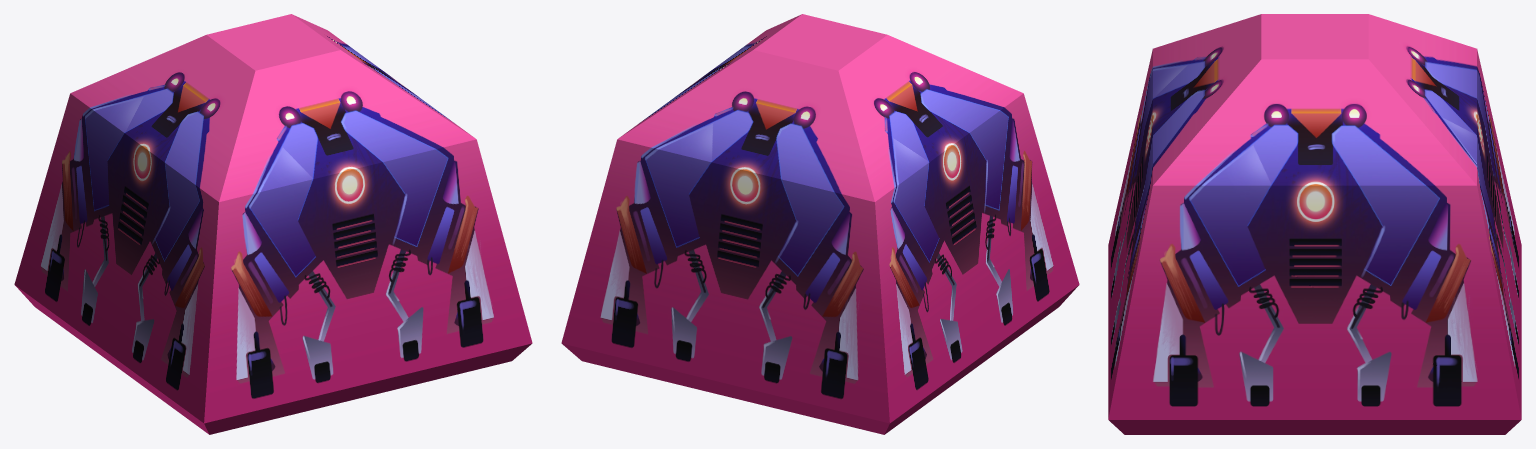
Rendered from villain3.glb.
3 views of the same model, side by side, from view 1: azimuth 30°, elevation 25°; view 2: azimuth 150°, elevation 25°; view 3: azimuth 270°, elevation 25° (orthographic). The views are drawn at different scales.
Visible parts, largest first — view 1: Villain3; view 2: Villain3; view 3: Villain3.
Boxes of the visible parts, x1,y1,x2,y2 form: Villain3: (14, 14, 532, 434); Villain3: (561, 14, 1079, 434); Villain3: (1108, 14, 1521, 434).
Bounding box in the file's own units: 3.29 × 2.79 × 3.29.
1 material, 1 textured.
